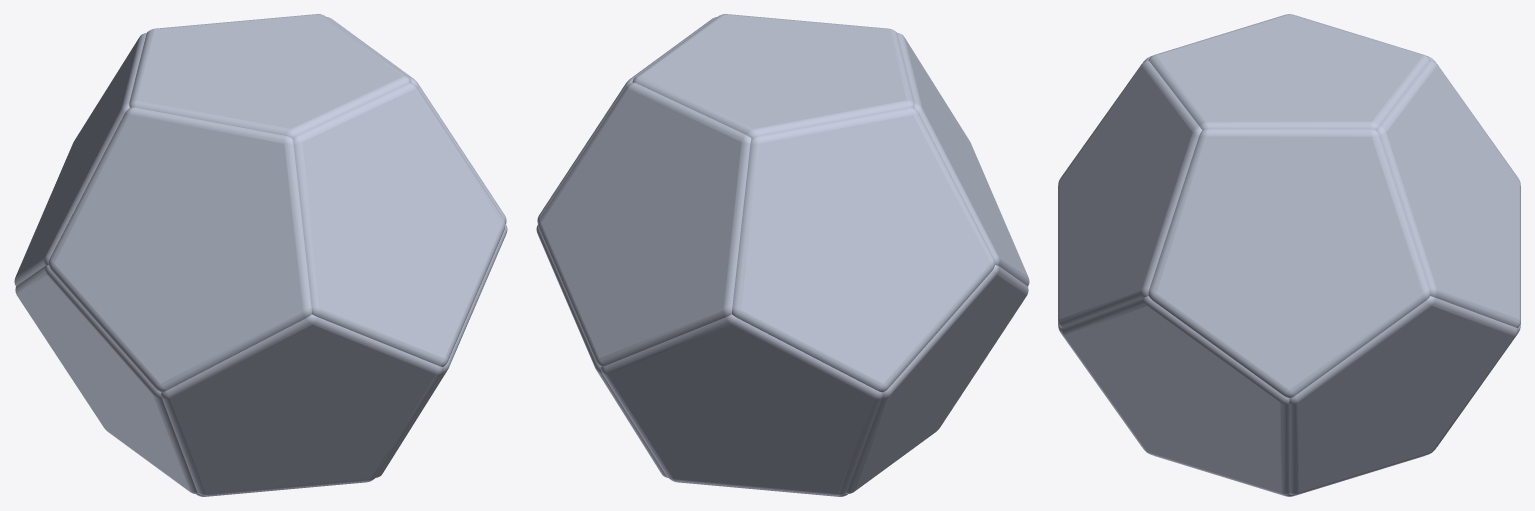
File: dodecahedron.glb
3 renders of one model, left to right at view 1: azimuth 30°, elevation 25°; view 2: azimuth 150°, elevation 25°; view 3: azimuth 270°, elevation 25°, orthographic. The views are drawn at different scales.
Parts seen in each view (by area): view 1: facet_07.001, facet_06.001, facet_02.001, facet_11.001, facet_03.001, facet_08.001, facet_01.001, facet_10.001; view 2: facet_08.001, facet_09.001, facet_04.001, facet_11.001, facet_03.001, facet_07.001, facet_05.001, facet_10.001; view 3: facet_10.001, facet_01.001, facet_05.001, facet_06.001, facet_09.001, facet_11.001.
Part boxes in pixels (x1,y1,x2,y2): facet_07.001: (49, 107, 311, 392); facet_06.001: (292, 82, 505, 366); facet_02.001: (161, 314, 442, 495); facet_11.001: (129, 14, 411, 138); facet_03.001: (15, 265, 198, 493); facet_08.001: (14, 33, 146, 286); facet_01.001: (376, 224, 507, 477); facet_10.001: (327, 17, 506, 223); facet_08.001: (732, 107, 994, 392); facet_09.001: (538, 82, 751, 366); facet_04.001: (601, 314, 882, 495); facet_11.001: (632, 14, 914, 138); facet_03.001: (845, 265, 1028, 493); facet_07.001: (897, 33, 1029, 286); facet_05.001: (536, 224, 667, 477); facet_10.001: (537, 17, 716, 223); facet_10.001: (1148, 129, 1430, 397); facet_01.001: (1061, 296, 1289, 495); facet_05.001: (1289, 296, 1517, 495); facet_06.001: (1058, 60, 1202, 327); facet_09.001: (1376, 60, 1520, 327); facet_11.001: (1148, 14, 1430, 130).
Size of the model in its own units: 3.31 by 2.73 by 3.16.
